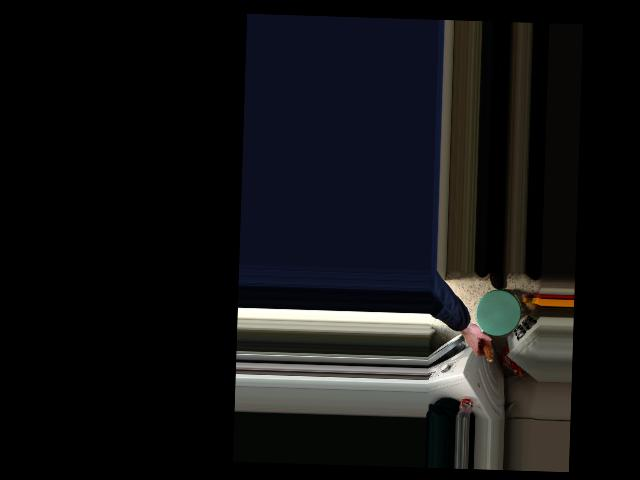sweet_potato: (472, 324, 493, 361)
